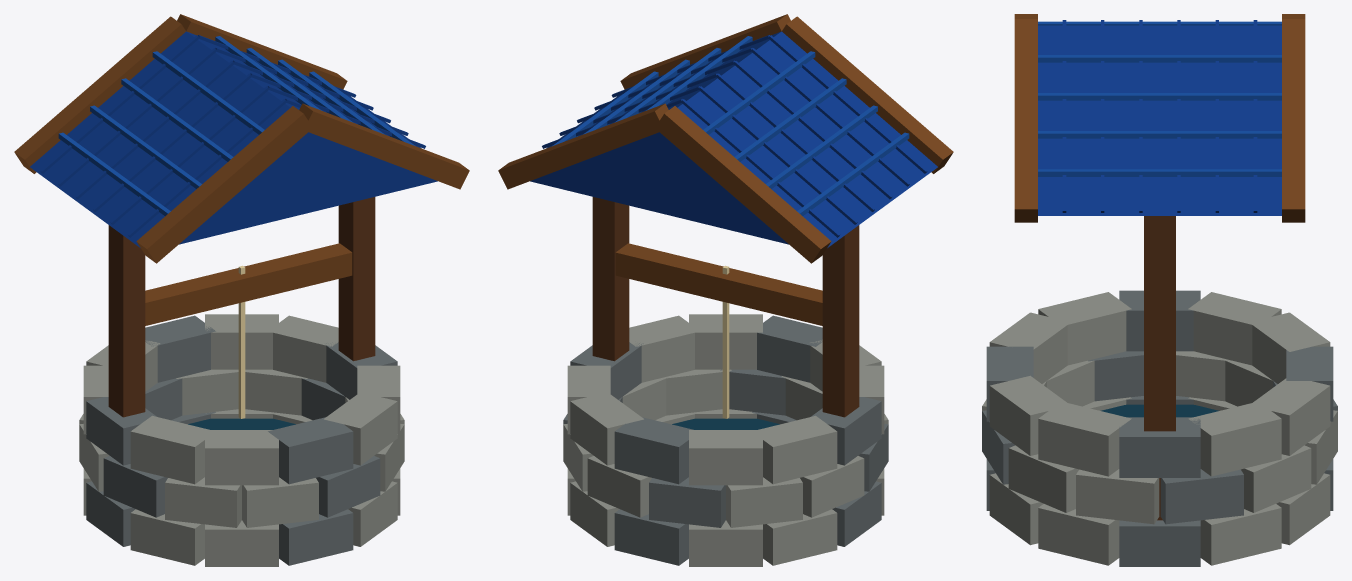
The model's file is well.glb.
3 views of the same model, side by side, from view 1: azimuth 30°, elevation 25°; view 2: azimuth 150°, elevation 25°; view 3: azimuth 270°, elevation 25° (orthographic). The views are drawn at different scales.
Parts seen in each view (by area): view 1: Masonry.008, Tile seam.005, Spindle, Masonry.024, Well post, Tile course.001, Well water, Rope; view 2: Masonry.008, Tile seam.005, Spindle, Masonry.024, Well post, Tile course.001, Well water, Rope; view 3: Masonry.008, Tile seam.005, Masonry.024, Spindle, Tile course.001, Well post, Well water.
Part boxes in pixels (x1,y1,x2,y2): Masonry.008: (79, 314, 404, 566); Tile seam.005: (30, 31, 437, 247); Spindle: (14, 14, 469, 325); Masonry.024: (86, 315, 397, 565); Well post: (108, 197, 375, 417); Tile course.001: (58, 36, 415, 216); Well water: (188, 418, 295, 429); Rope: (238, 265, 245, 418); Masonry.008: (563, 314, 888, 566); Tile seam.005: (530, 31, 937, 247); Spindle: (498, 14, 953, 325); Masonry.024: (563, 315, 888, 565); Well post: (592, 197, 859, 417); Tile course.001: (552, 36, 909, 216); Well water: (672, 418, 779, 429); Rope: (722, 265, 729, 418); Masonry.008: (982, 292, 1337, 565); Tile seam.005: (1038, 20, 1281, 215); Masonry.024: (982, 290, 1337, 566); Spindle: (1014, 14, 1305, 222); Tile course.001: (1038, 21, 1281, 176); Well post: (1144, 216, 1175, 520); Well water: (1101, 404, 1218, 417).
Bounding box in the file's own units: 1.91 × 2.46 × 1.66.
